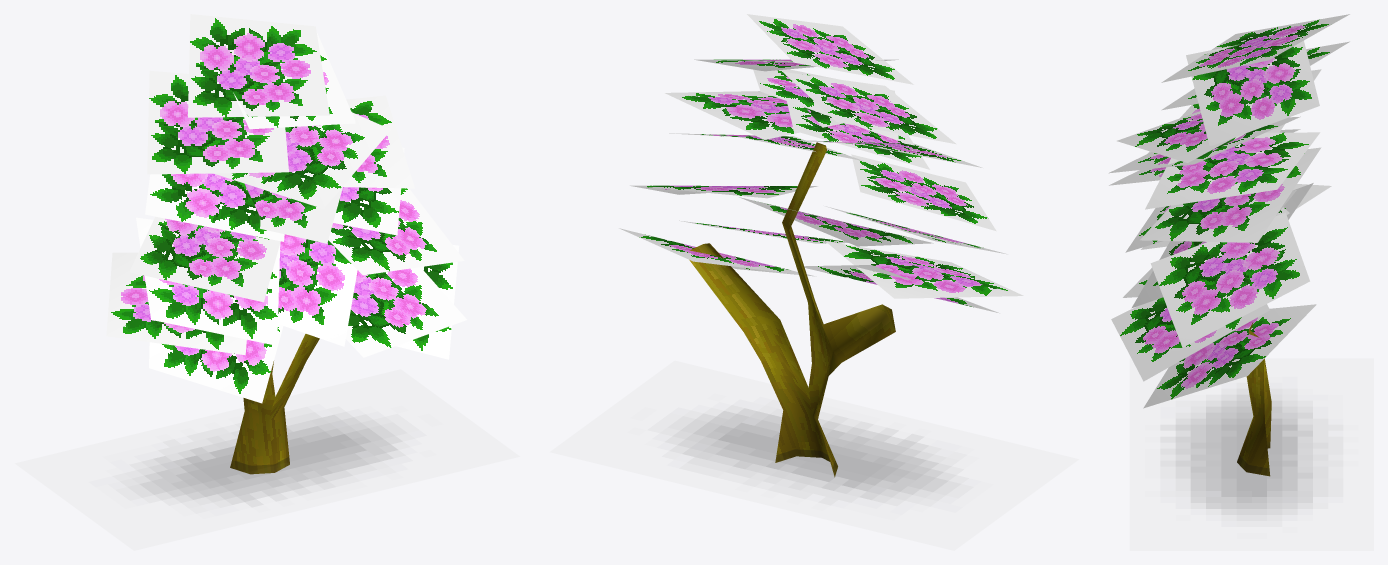
Rendered from Lovely Tree.obj.
The picture shows the model from 3 angles, left to right: view 1: azimuth 30°, elevation 25°; view 2: azimuth 150°, elevation 25°; view 3: azimuth 270°, elevation 25°; orthographic projection. The views are drawn at different scales.
Visible parts, largest first — view 1: polygon1.059, polygon0.059, polygon2.038; view 2: polygon0.059, polygon1.059, polygon2.038; view 3: polygon1.059, polygon0.059, polygon2.038.
Boxes of the visible parts, x1,y1,x2,y2 form: polygon1.059: [106, 14, 466, 403]; polygon0.059: [15, 369, 519, 550]; polygon2.038: [230, 334, 319, 474]; polygon0.059: [550, 361, 1078, 550]; polygon1.059: [619, 14, 1023, 313]; polygon2.038: [689, 142, 895, 477]; polygon1.059: [1108, 14, 1349, 408]; polygon0.059: [1130, 358, 1373, 550]; polygon2.038: [1237, 322, 1271, 476].
Size of the model in its own units: 8.16 by 8.58 by 4.76.
Materials: 3 (3 with a texture image).
